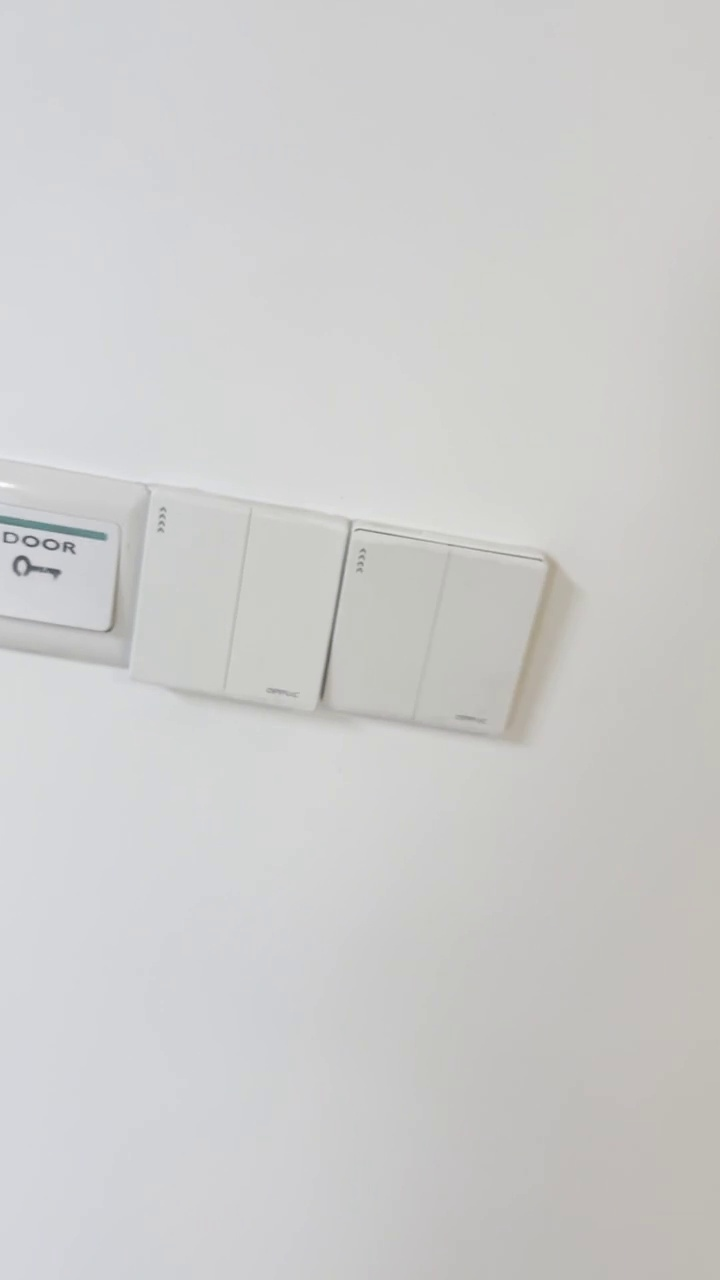button: (329, 525, 559, 749), (131, 479, 352, 712)
